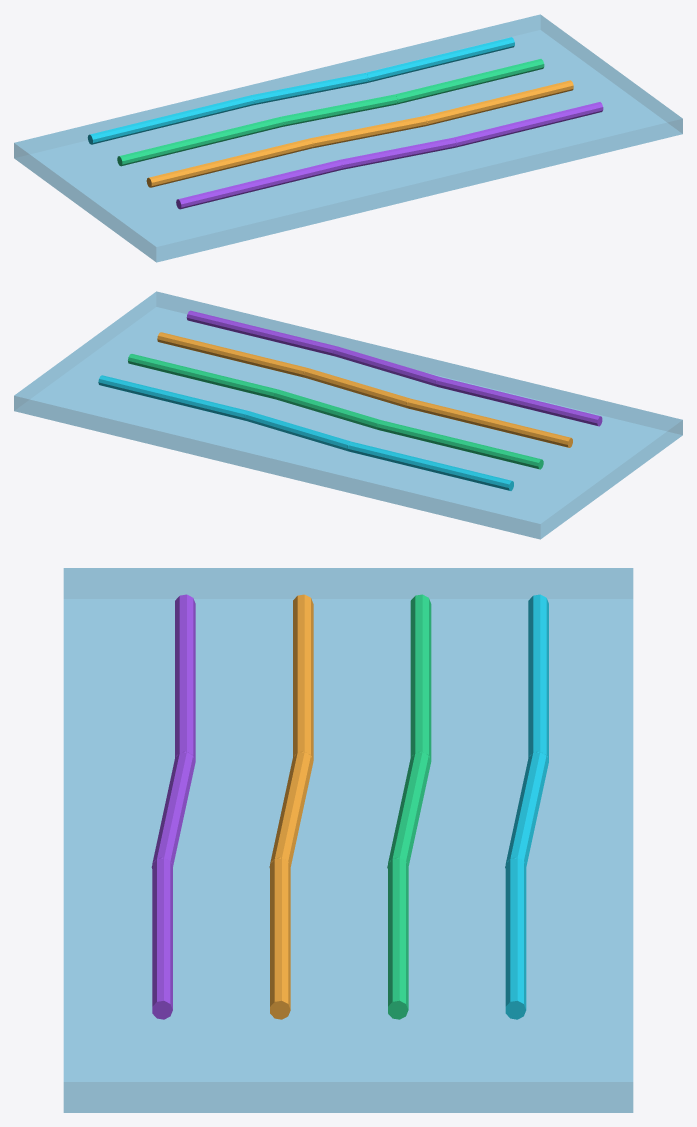
Rendered from 25_L80_PhotonicWaveguideCrossSection.fbx.
3 renders of one model, top to bottom at view 1: azimuth 30°, elevation 25°; view 2: azimuth 150°, elevation 25°; view 3: azimuth 270°, elevation 25°, orthographic. The views are drawn at different scales.
Visible parts, largest first — view 1: PhotonicWaveguideCrossSection; view 2: PhotonicWaveguideCrossSection; view 3: PhotonicWaveguideCrossSection.
Boxes of the visible parts, x1,y1,x2,y2 form: PhotonicWaveguideCrossSection: (14,14,682,262); PhotonicWaveguideCrossSection: (14,291,682,539); PhotonicWaveguideCrossSection: (63,568,633,1112).
Bounding box in the file's own units: 320 × 16.3 × 150.
